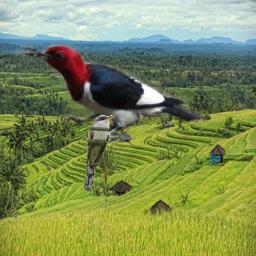Cuckoo: (84, 115, 115, 191)
Woodpecker: (15, 40, 207, 147)
